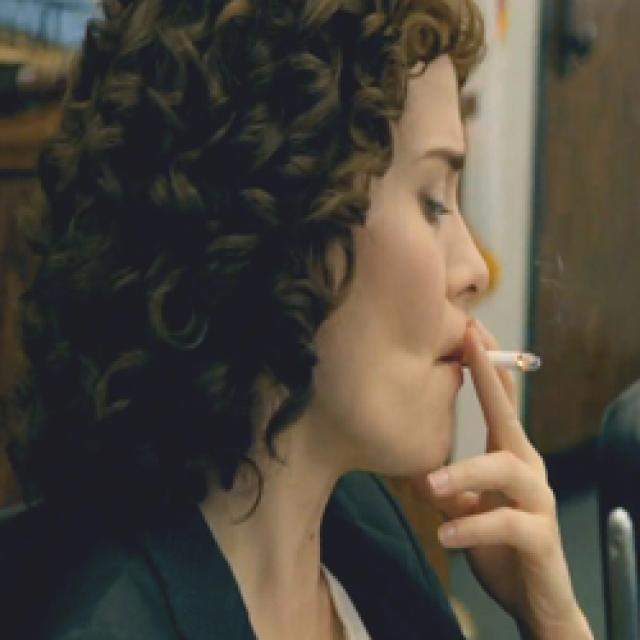Smooking: (492, 328, 545, 383)
